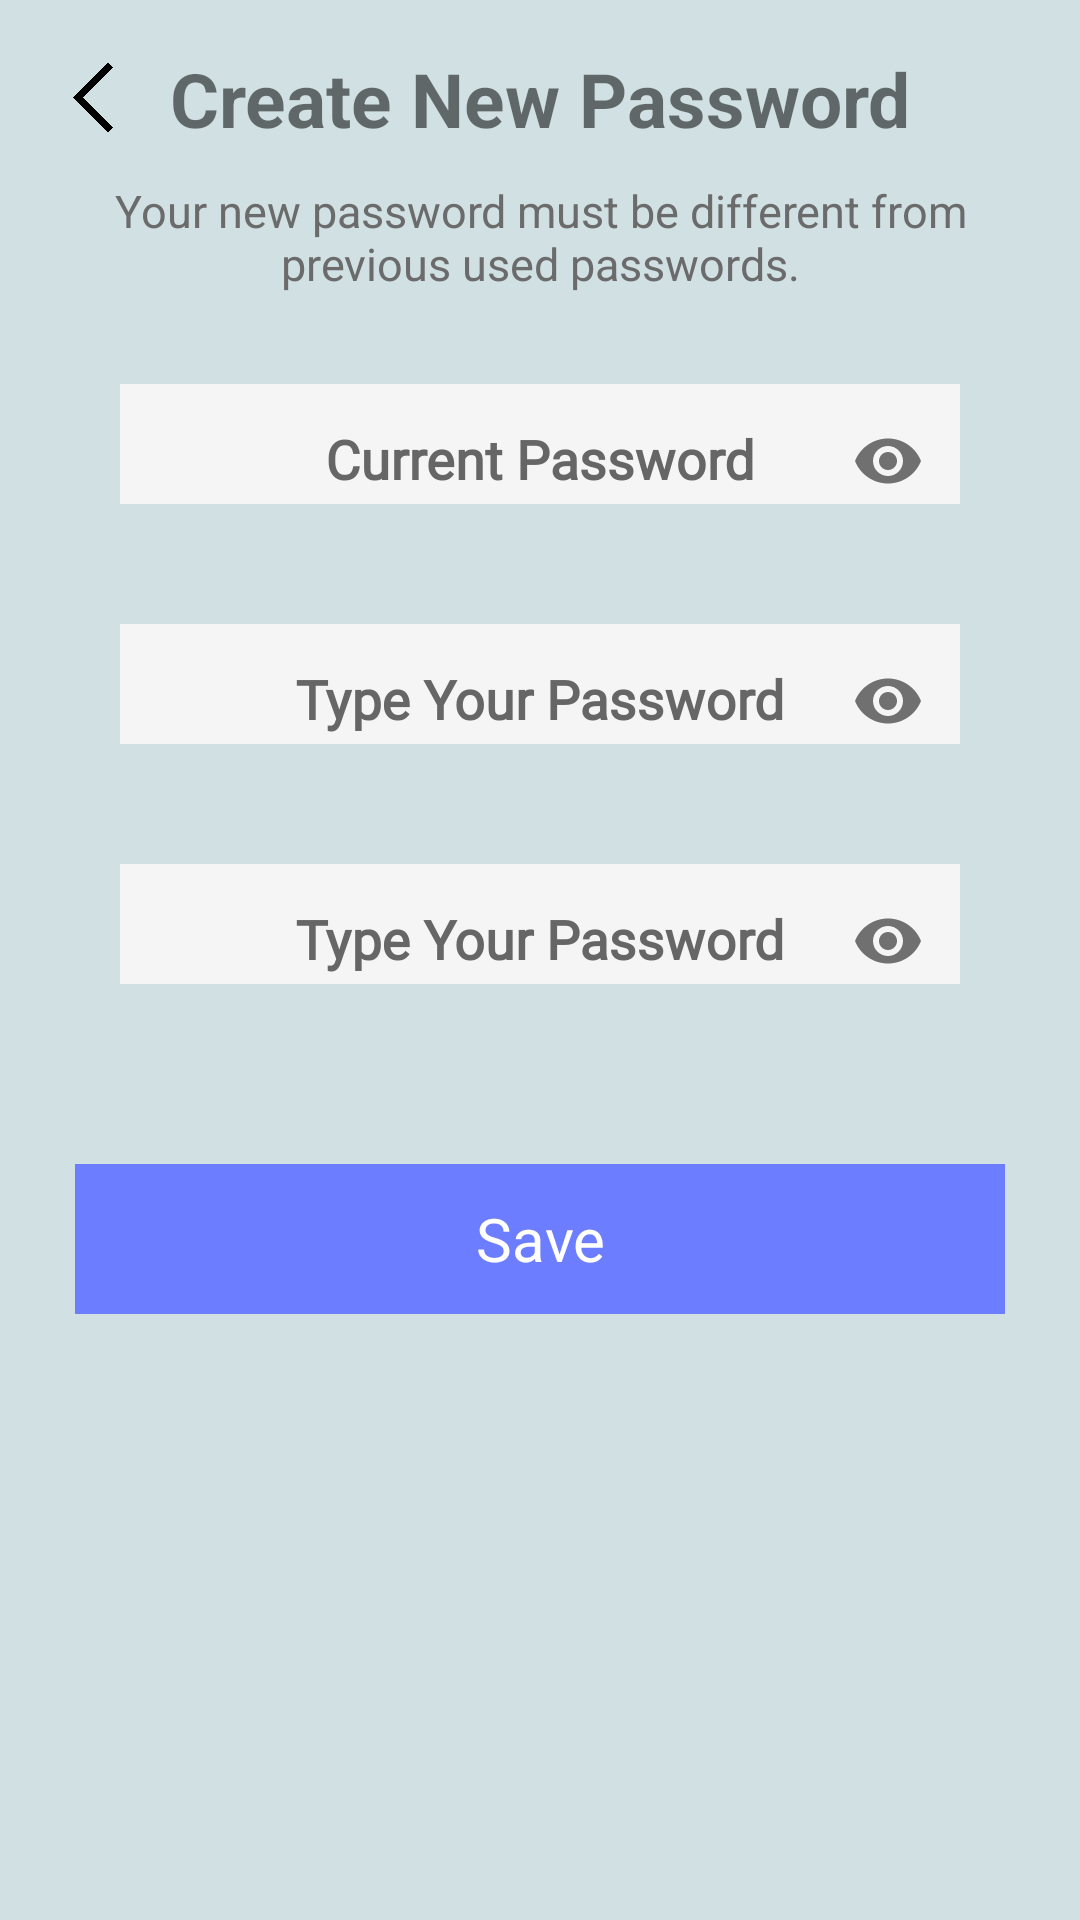

Screen size 1080w x 1920h. Icon name, then its box in pixels as (x1, y1, x2, y2):
back: (73, 63, 113, 132)
